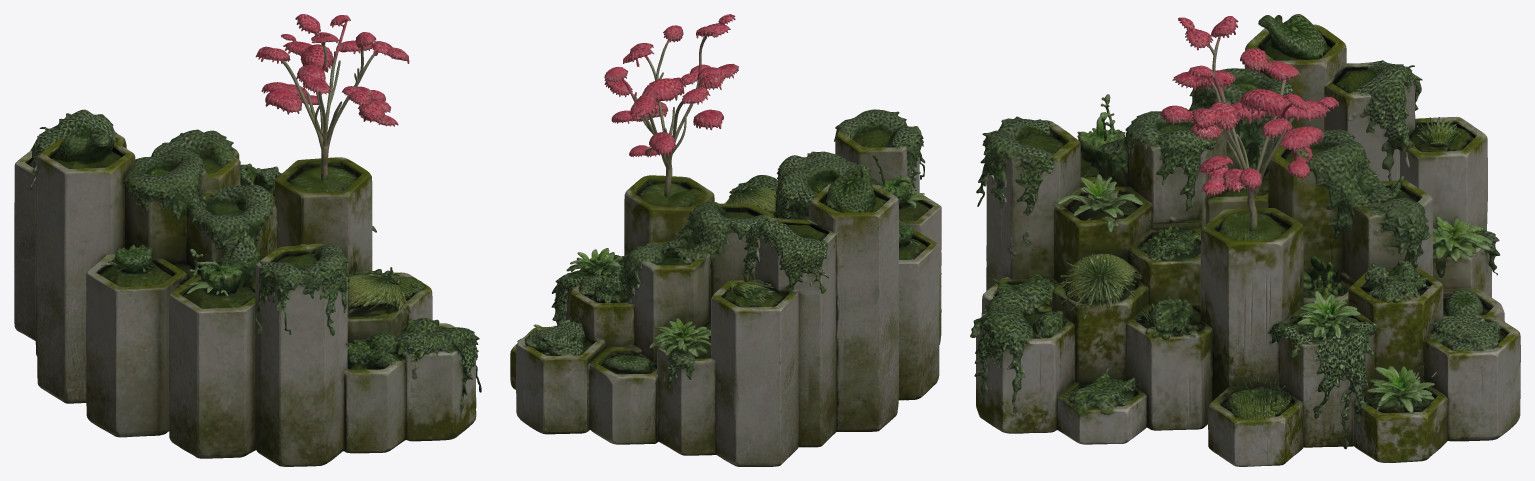
Rendered from concrete-planters-3d-model.glb.
3 views of the same model, side by side, from view 1: azimuth 30°, elevation 25°; view 2: azimuth 150°, elevation 25°; view 3: azimuth 270°, elevation 25° (orthographic). The views are drawn at different scales.
Parts seen in each view (by area): view 1: tripo_node_36d77ed8-a12f-4d70-bb1c-5a5bc464389e; view 2: tripo_node_36d77ed8-a12f-4d70-bb1c-5a5bc464389e; view 3: tripo_node_36d77ed8-a12f-4d70-bb1c-5a5bc464389e.
Part boxes in pixels (x1=…): tripo_node_36d77ed8-a12f-4d70-bb1c-5a5bc464389e: x1=14, y1=14, x2=481, y2=466; tripo_node_36d77ed8-a12f-4d70-bb1c-5a5bc464389e: x1=510, y1=14, x2=941, y2=466; tripo_node_36d77ed8-a12f-4d70-bb1c-5a5bc464389e: x1=970, y1=14, x2=1520, y2=466.
Size of the model in its own units: 0.8007 by 0.7485 by 0.9814.
1 material, 1 textured.
